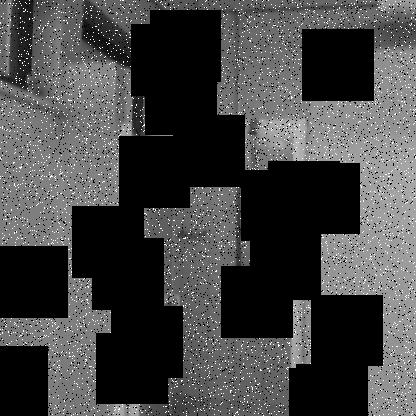Porte: (110, 120, 308, 415)
